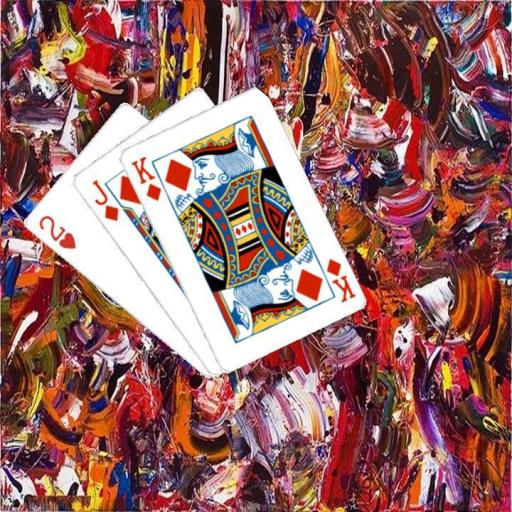2H: (35, 211, 77, 251)
JD: (88, 177, 120, 224)
KD: (127, 153, 163, 203), (322, 255, 357, 304)
